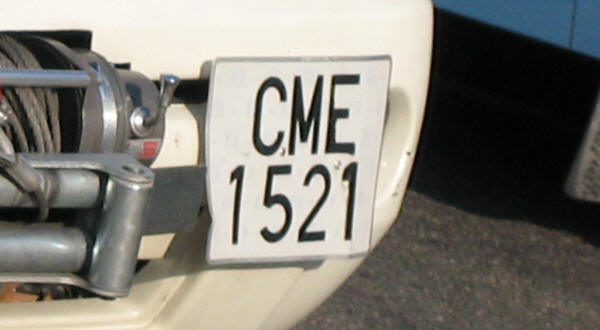license_plate: (203, 57, 393, 261)
